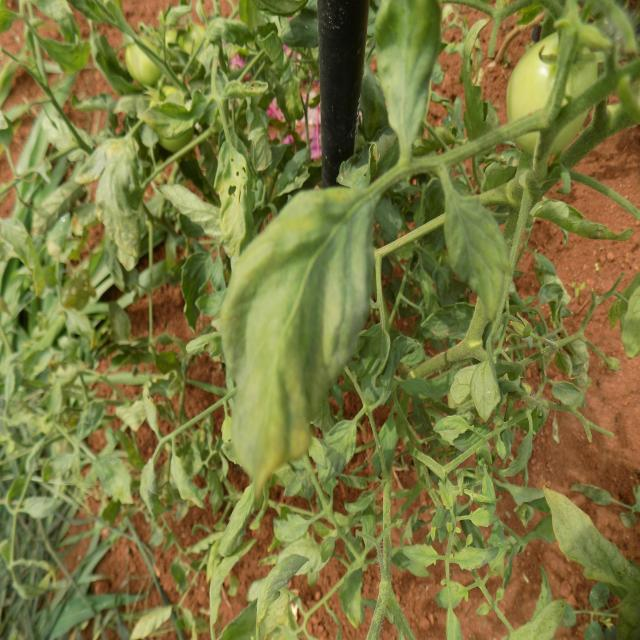tomato_healthy: (215, 178, 371, 491), (439, 181, 513, 344)
